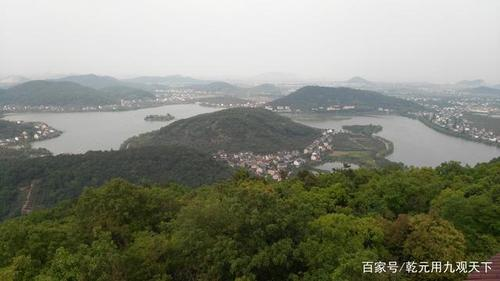mountain: (61, 106, 303, 188), (14, 72, 166, 109)
